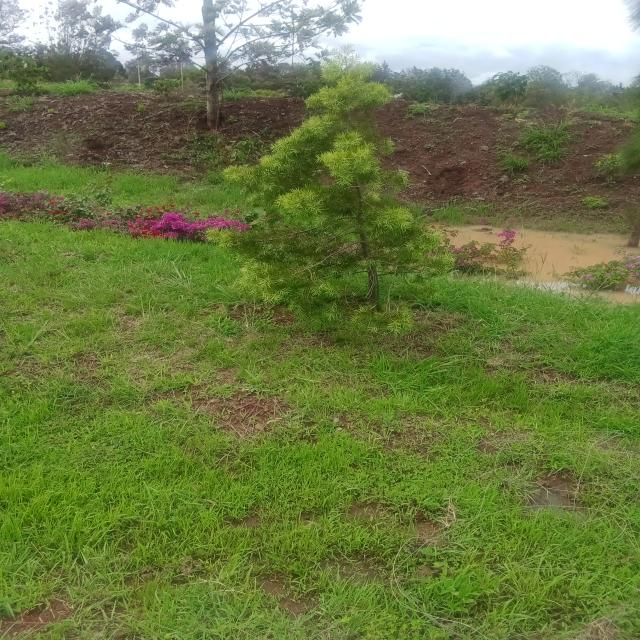Podocarpus falcatus: (210, 59, 472, 351)
